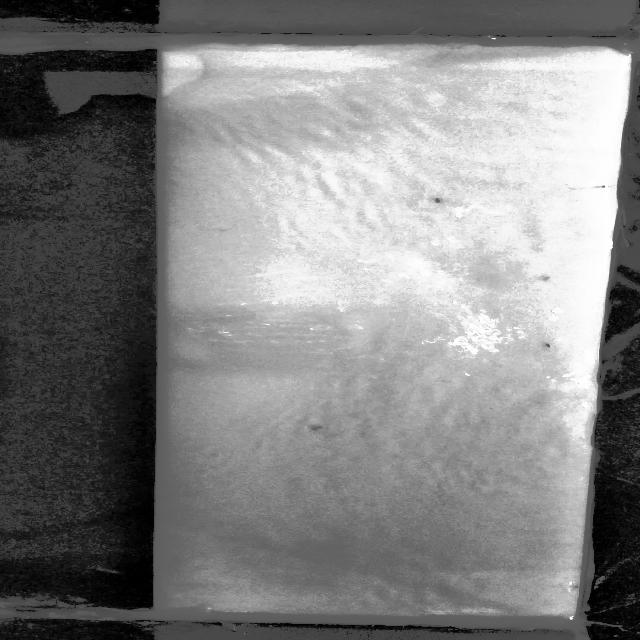shrimp: (294, 420, 330, 434), (534, 337, 558, 353), (424, 194, 444, 209)
